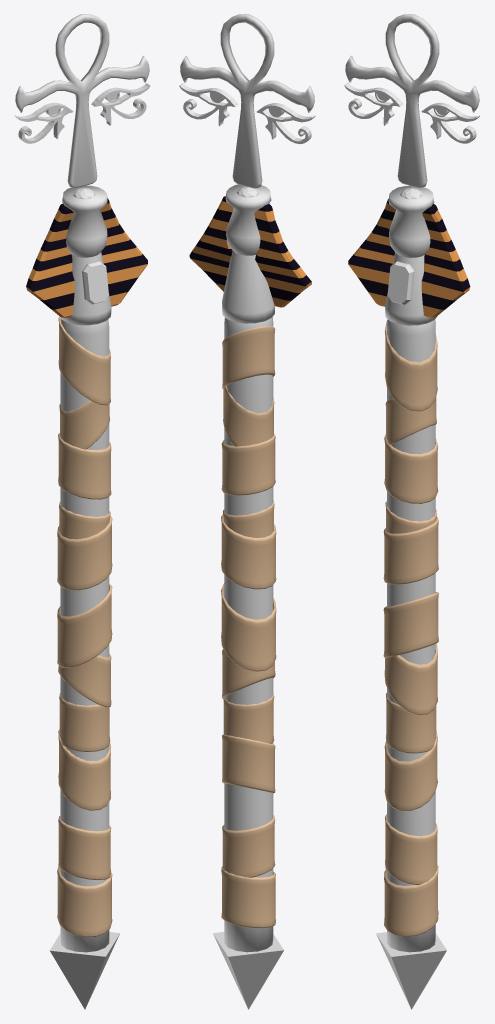
Rendered from BaseSandStaff.fbx.
3 renders of one model, left to right at view 1: azimuth 30°, elevation 25°; view 2: azimuth 150°, elevation 25°; view 3: azimuth 330°, elevation 25°, orthographic.
Visible parts, largest first — view 1: Cylinder.009; view 2: Cylinder.009; view 3: Cylinder.009.
Part boxes in pixels (left/top/right/bottom): Cylinder.009: left=14, top=14, right=150, bottom=1009; Cylinder.009: left=179, top=14, right=315, bottom=1009; Cylinder.009: left=344, top=14, right=480, bottom=1009.
Size of the model in its own units: 22.29 by 159 by 11.88.
